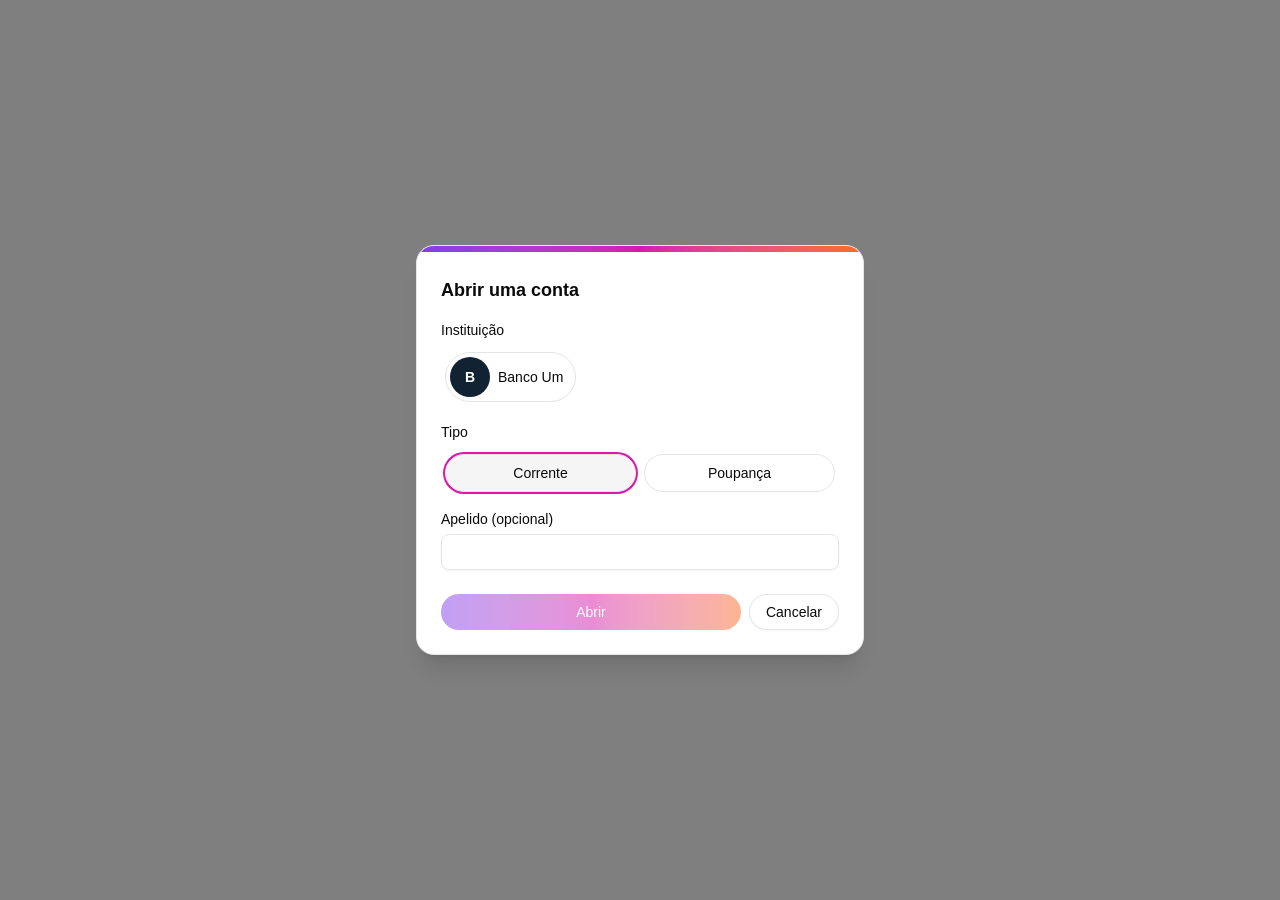
Test: abrir conta › instituicao inexistente mostra a mensagem propria
This screenshot has width=1280, height=900.
O banco virou escolha por logo, como no formulario de contato.
Step 1. Click the radio button labelled "B Banco Um" → (511, 377), box [445,352,576,402]
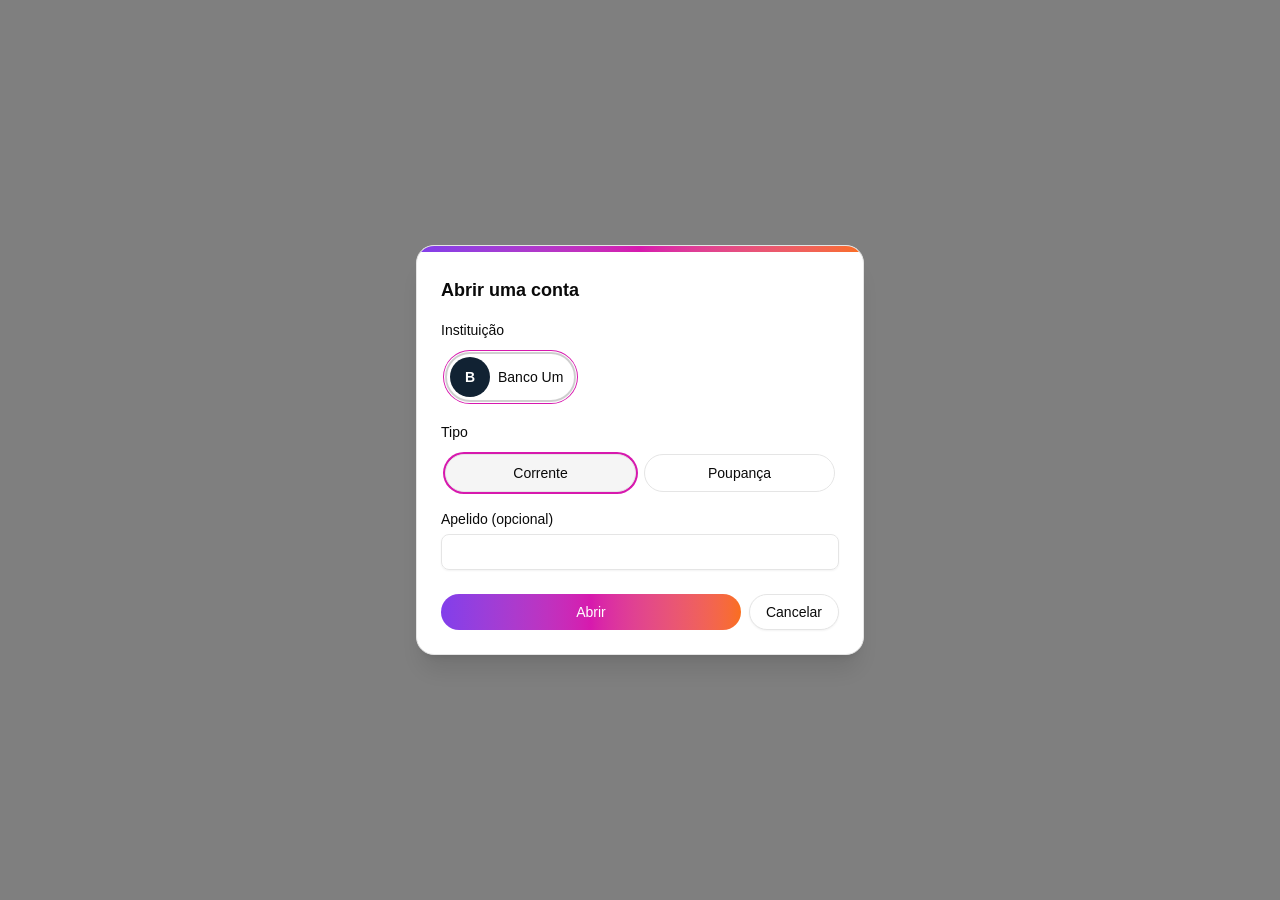
Step 2. Click the button "Abrir" → (591, 612), box [441,594,741,630]
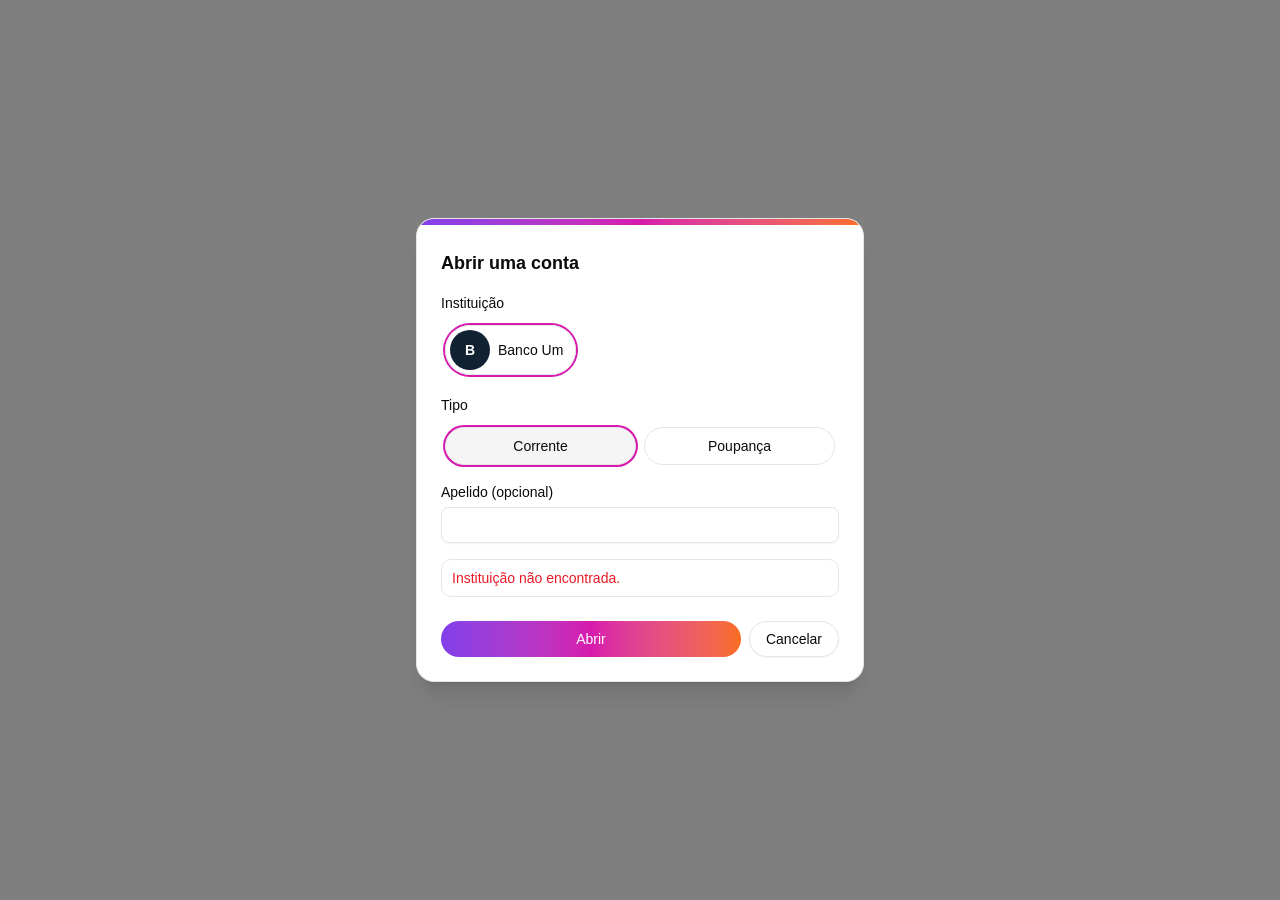
Check: the message reads "Instituição não encontrada.", box [452,570,620,586]
